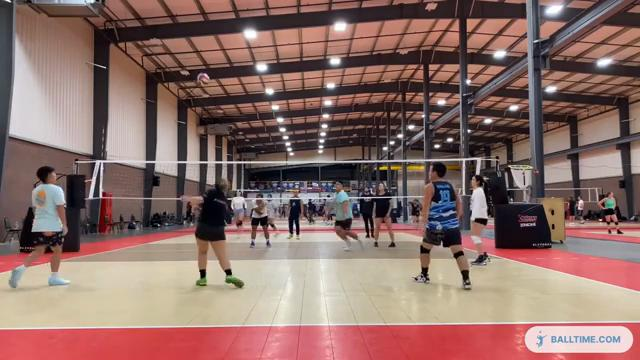Player: (9, 166, 69, 287), (414, 162, 471, 289), (335, 182, 363, 250), (470, 175, 488, 264), (374, 183, 395, 246), (250, 194, 270, 247), (359, 187, 374, 237), (288, 189, 301, 239), (231, 191, 247, 231), (267, 194, 278, 236)
Receive: (173, 175, 247, 289)
ball: (196, 70, 211, 87)
